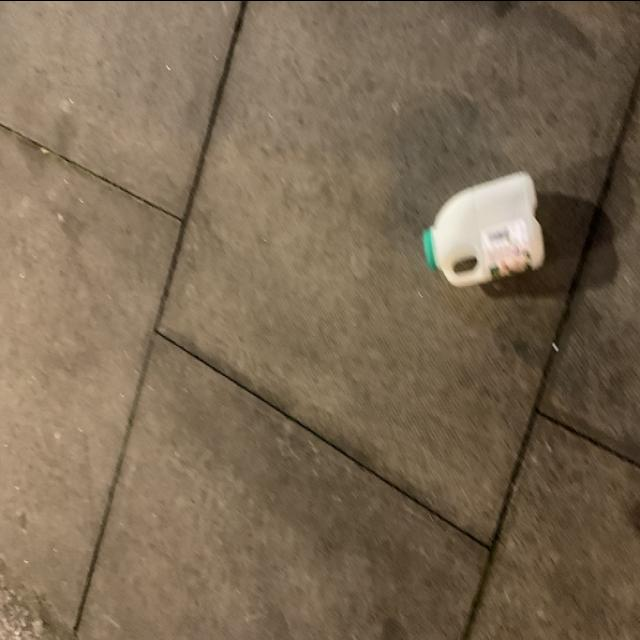HDPEM: (428, 154, 560, 284)
